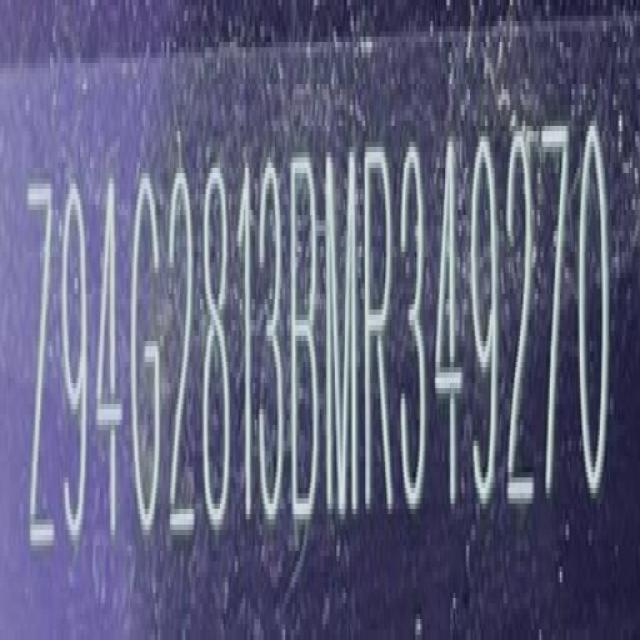0: (580, 128, 614, 502)
1: (236, 160, 254, 532)
2: (506, 128, 540, 516), (170, 155, 202, 540)
3: (400, 136, 430, 519), (257, 159, 287, 525)
4: (96, 175, 128, 552), (433, 139, 463, 520)
7: (538, 116, 572, 498)
8: (203, 162, 234, 536)
9: (59, 179, 89, 557), (468, 140, 498, 518)
B: (290, 152, 323, 523)
G: (131, 170, 163, 547)
M: (323, 146, 359, 525)
R: (364, 143, 396, 523)
Z: (24, 175, 56, 570)
